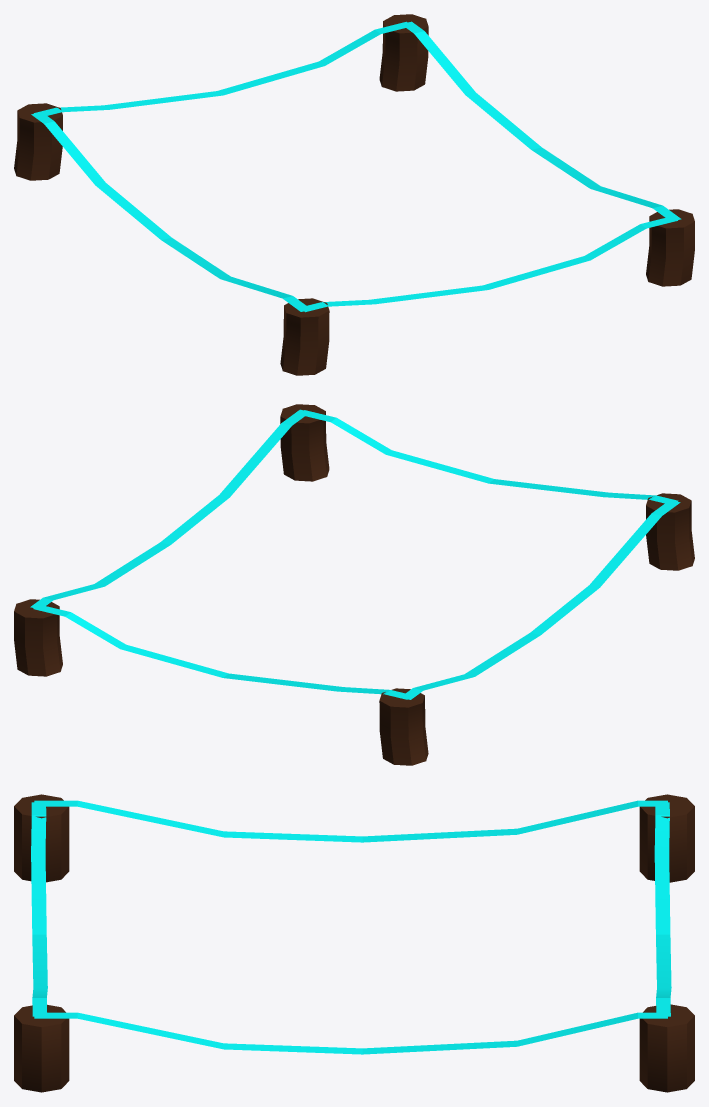
Rendered from HouseSite_1.fbx.
3 views of the same model, one above another, from view 1: azimuth 30°, elevation 25°; view 2: azimuth 150°, elevation 25°; view 3: azimuth 270°, elevation 25° (orthographic). The views are drawn at different scales.
Visible parts, largest first — view 1: polySurface42; view 2: polySurface42; view 3: polySurface42.
Boxes of the visible parts, left/top/right/bottom form: polySurface42: left=14, top=14, right=694, bottom=375; polySurface42: left=14, top=404, right=694, bottom=765; polySurface42: left=14, top=794, right=694, bottom=1092.
Bounding box in the file's own units: 8.63 × 1.16 × 10.58.
2 materials, 2 textured.
